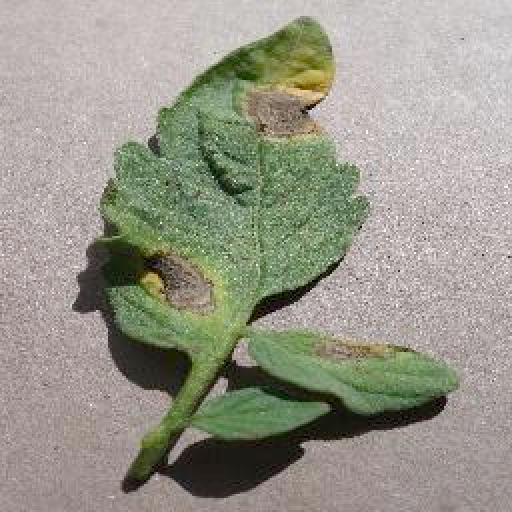Early Blight: (87, 12, 368, 342)
